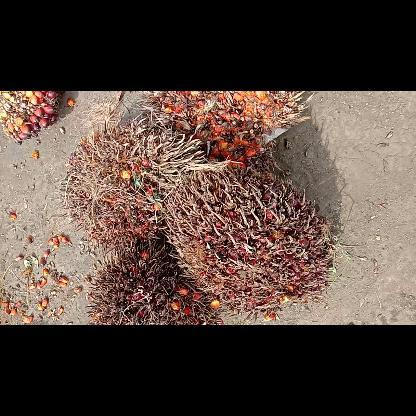Terlalu masak: (163, 171, 335, 309), (56, 112, 204, 248), (148, 91, 310, 169), (86, 240, 223, 324)
